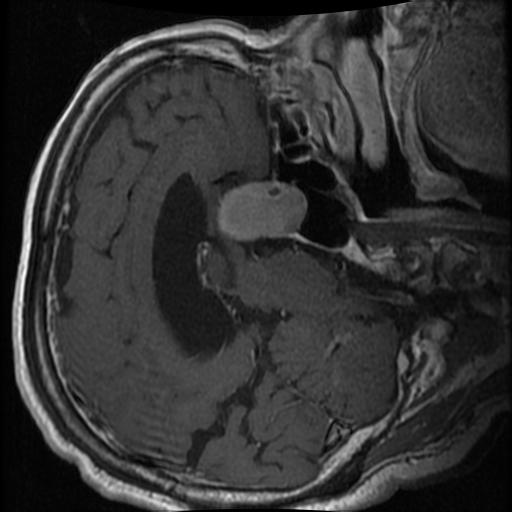pituitary tumour: (215, 182, 306, 240)
